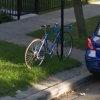Bicycle: (21, 20, 77, 69)
